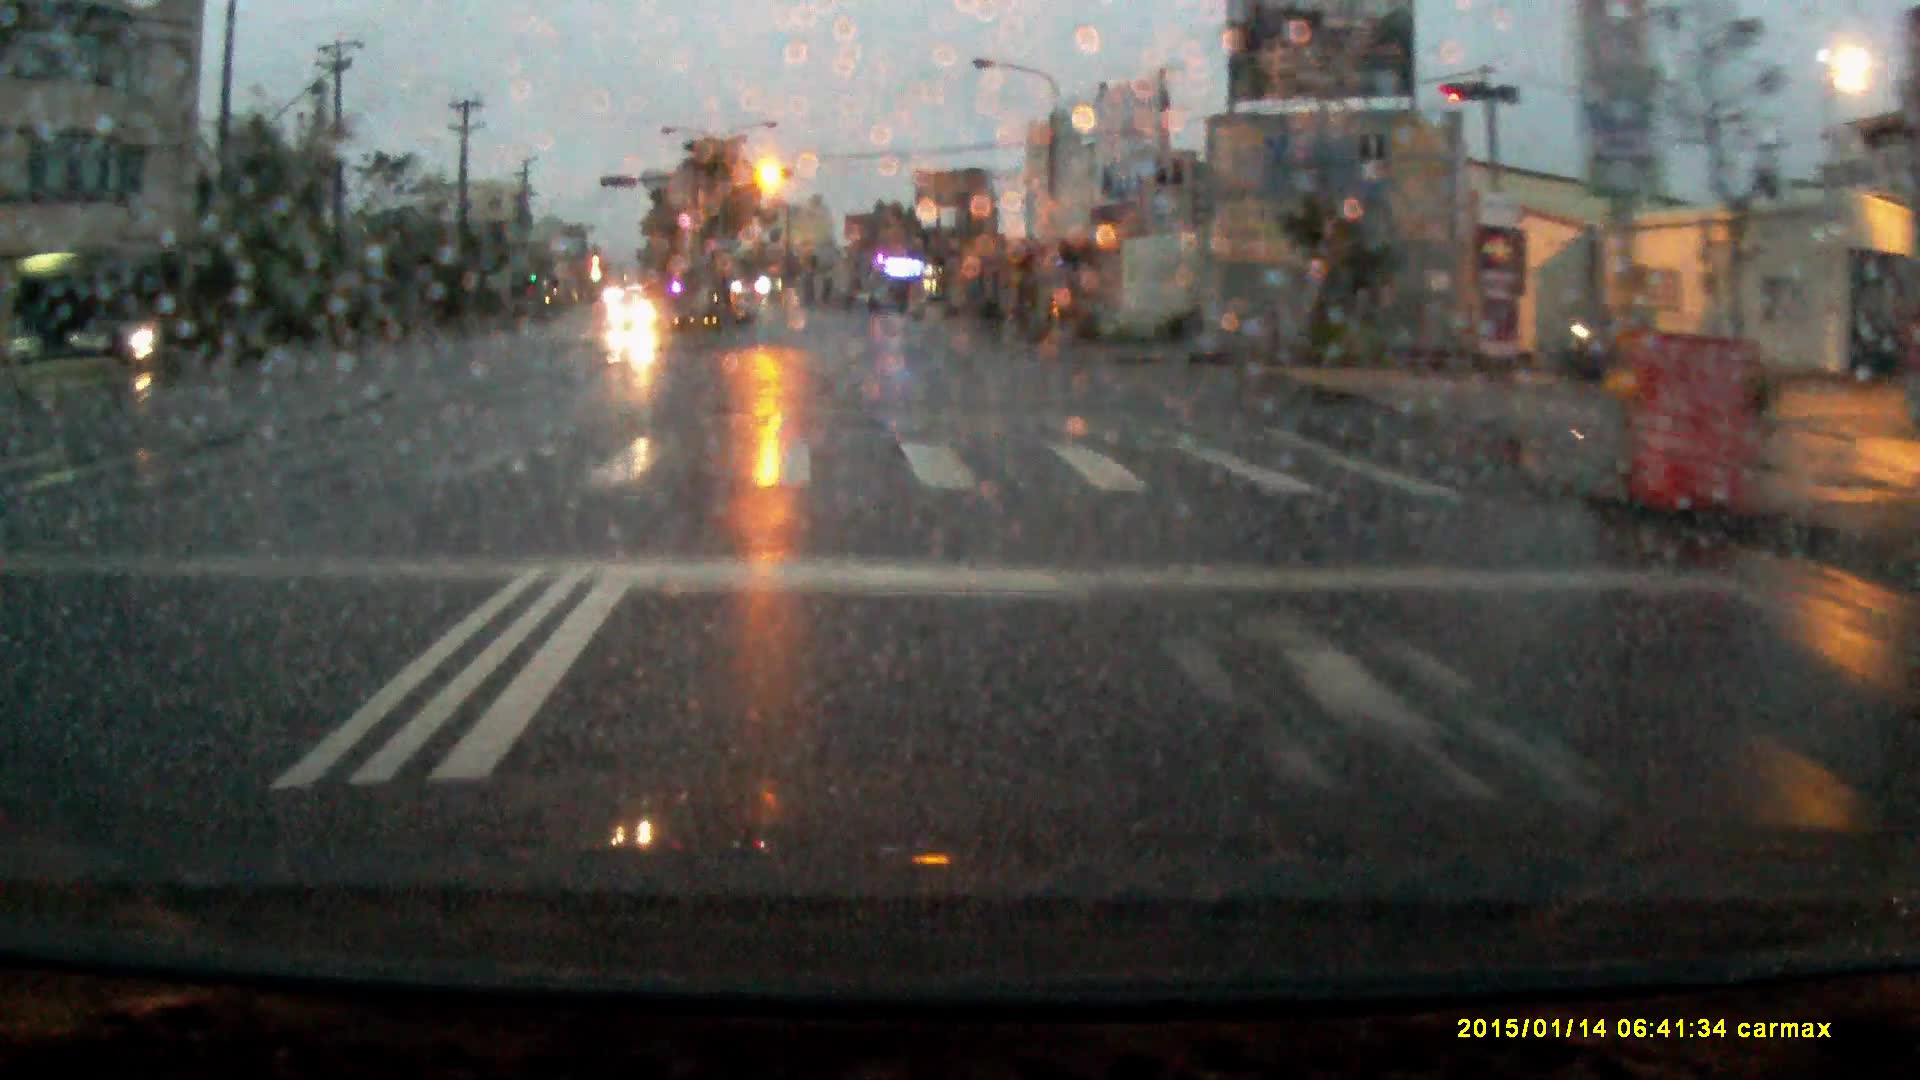rider: (1568, 292, 1642, 381), (123, 299, 169, 378)
vehicle: (609, 296, 660, 336)
